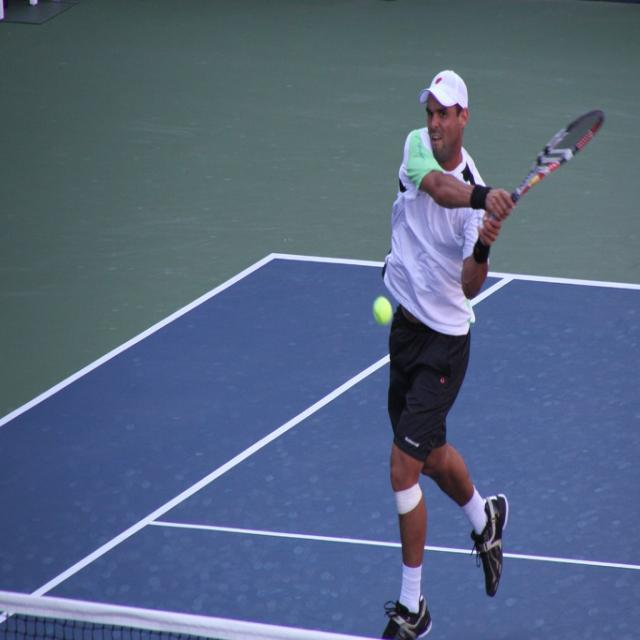Tennis ball: (372, 296, 392, 324)
